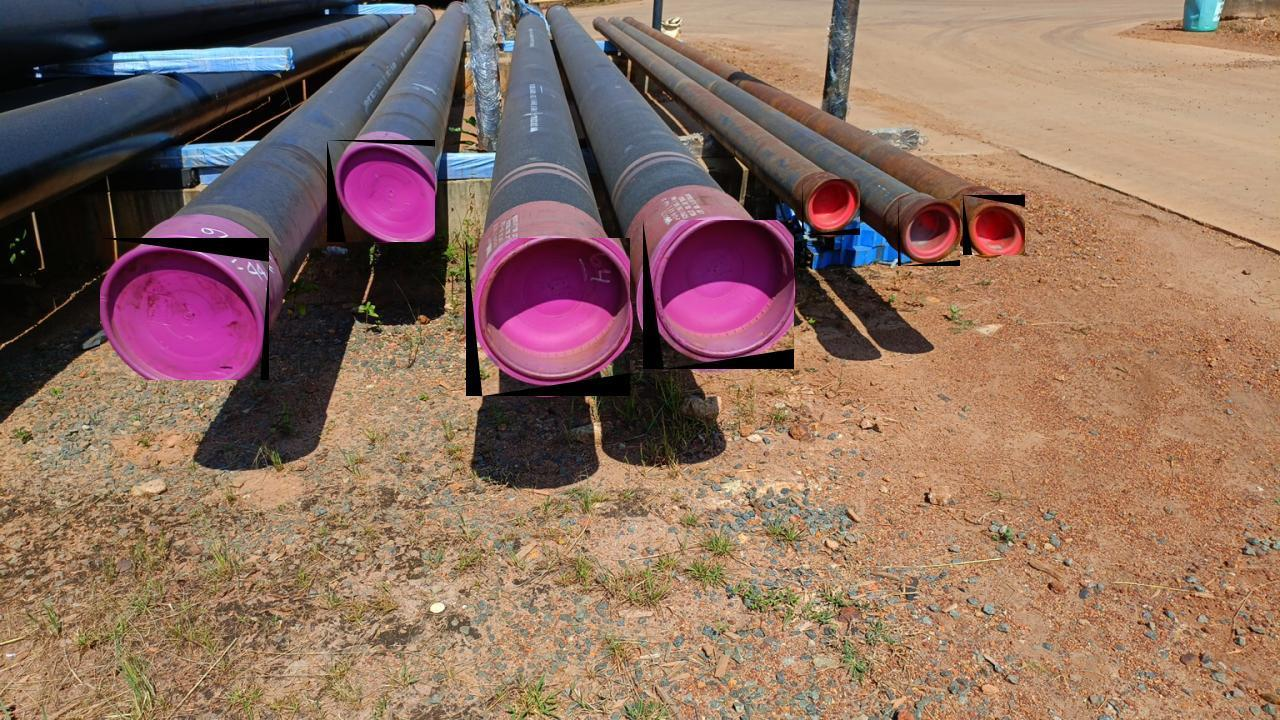pipe: (466, 238, 630, 396), (100, 238, 269, 380), (643, 220, 794, 369), (328, 140, 436, 242), (898, 199, 960, 266), (963, 195, 1025, 255), (802, 179, 860, 235)
